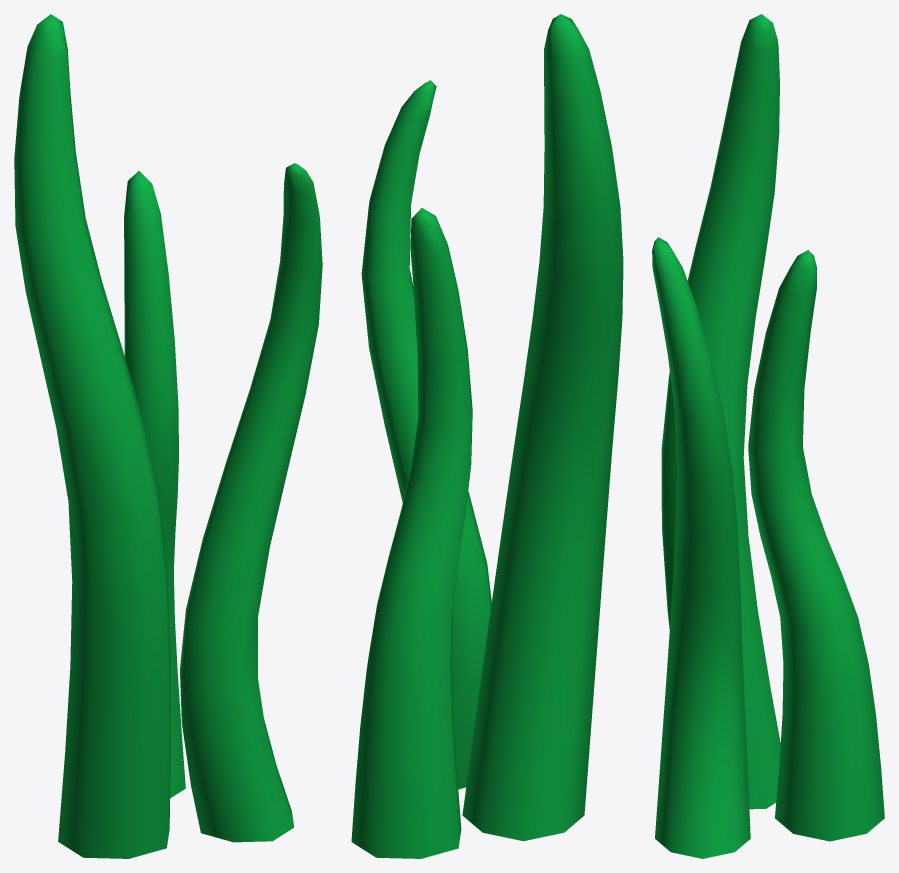
The model's file is Town_16_Grass_1.glb.
3 views of the same model, side by side, from view 1: azimuth 30°, elevation 25°; view 2: azimuth 150°, elevation 25°; view 3: azimuth 270°, elevation 25° (orthographic). The views are drawn at different scales.
Visible parts, largest first — view 1: Town_16_Grass_1; view 2: Town_16_Grass_1; view 3: Town_16_Grass_1.
Boxes of the visible parts, bbox=[...] form: Town_16_Grass_1: bbox=[14, 14, 322, 858]; Town_16_Grass_1: bbox=[351, 14, 623, 858]; Town_16_Grass_1: bbox=[652, 14, 884, 858].
Size of the model in its own units: 0.2537 by 0.7301 by 0.2048.
Materials: 1 (1 with a texture image).
